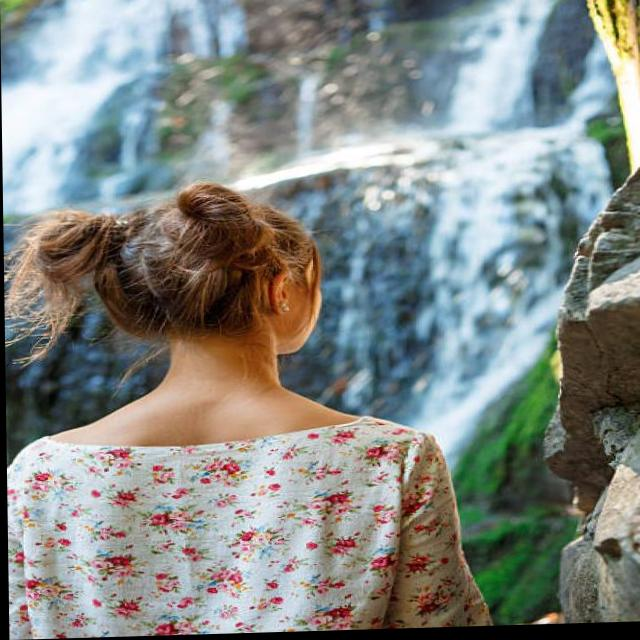no helmet: (24, 182, 327, 359)
